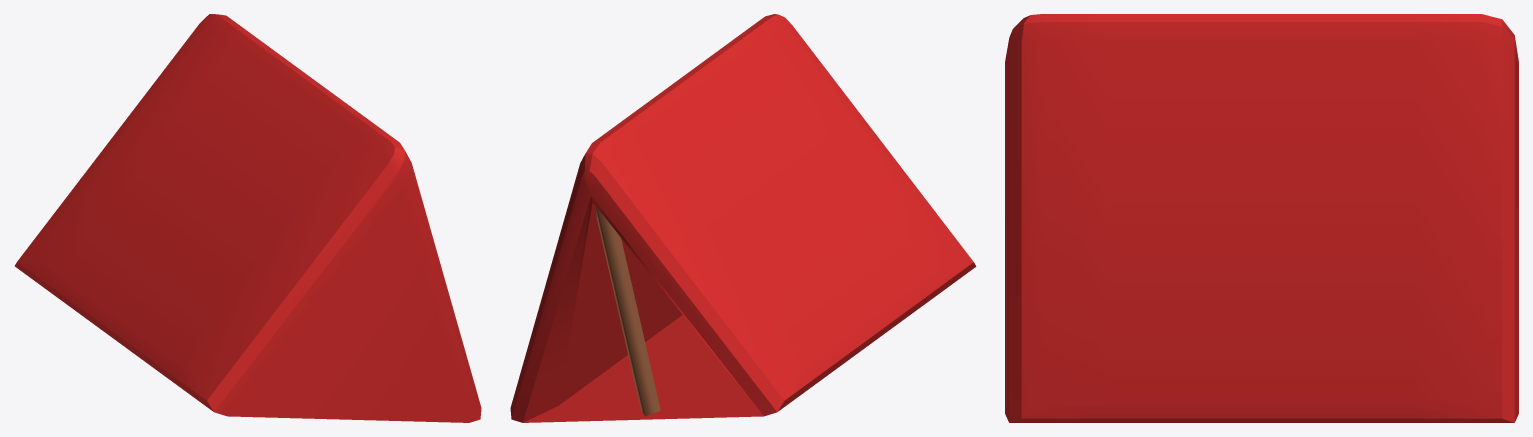
File: tent.dae
3 views of the same model, side by side, from view 1: azimuth 30°, elevation 25°; view 2: azimuth 150°, elevation 25°; view 3: azimuth 270°, elevation 25° (orthographic). The views are drawn at different scales.
Visible parts, largest first — view 1: Tent #1; view 2: Tent #1; view 3: Tent #1.
Part boxes in pixels (bbox=[...]): Tent #1: bbox=[14, 14, 481, 422]; Tent #1: bbox=[510, 14, 976, 422]; Tent #1: bbox=[1005, 14, 1518, 422].
Size of the model in its own units: 0.8299 by 1.06 by 0.8262.
Materials: 1 (1 with a texture image).
